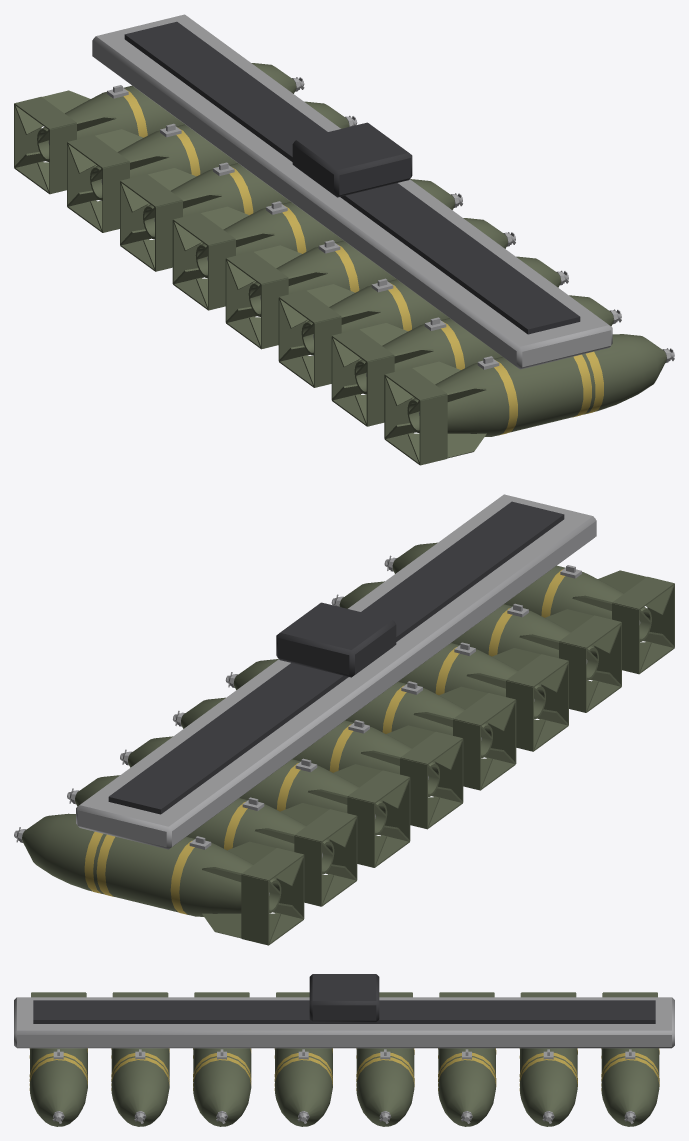
The model's file is bombs_evo.glb.
3 renders of one model, top to bottom at view 1: azimuth 30°, elevation 25°; view 2: azimuth 150°, elevation 25°; view 3: azimuth 270°, elevation 25°, orthographic. The views are drawn at different scales.
Parts seen in each view (by area): view 1: bombs_evo; view 2: bombs_evo; view 3: bombs_evo.
Boxes of the visible parts, bbox=[...] form: bombs_evo: bbox=[14, 14, 674, 465]; bombs_evo: bbox=[14, 494, 674, 945]; bombs_evo: bbox=[14, 974, 674, 1126].
Size of the model in its own units: 0.62 by 0.3051 by 1.7.
